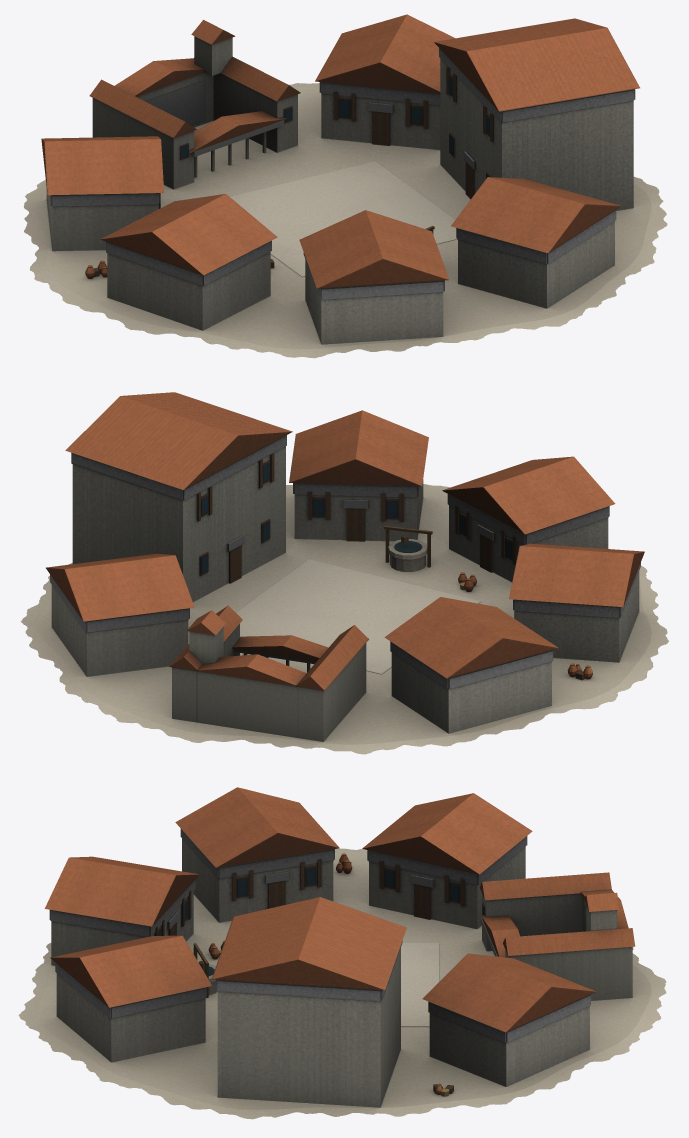
Rendered from gunpowder-town-small-b-americas.glb.
3 views of the same model, one above another, from view 1: azimuth 30°, elevation 25°; view 2: azimuth 150°, elevation 25°; view 3: azimuth 270°, elevation 25° (orthographic).
Parts seen in each view (by area): view 1: LOD0; view 2: LOD0; view 3: LOD0.
Part boxes in pixels (<box>): LOD0: <box>23,14,667,358</box>; LOD0: <box>20,392,668,754</box>; LOD0: <box>18,787,666,1119</box>.
Size of what is drawn, in the model's own units: 3.98 by 1 by 4.01.
Materials: 3 (3 with a texture image).
